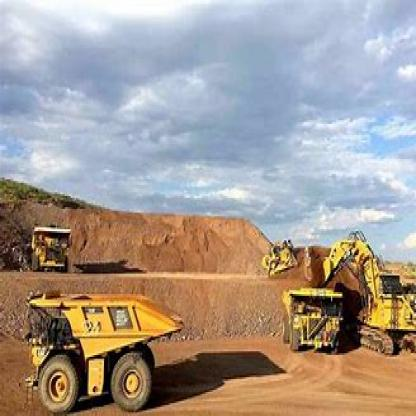dump_truck: (21, 288, 182, 410), (279, 281, 348, 357), (26, 222, 72, 270)
